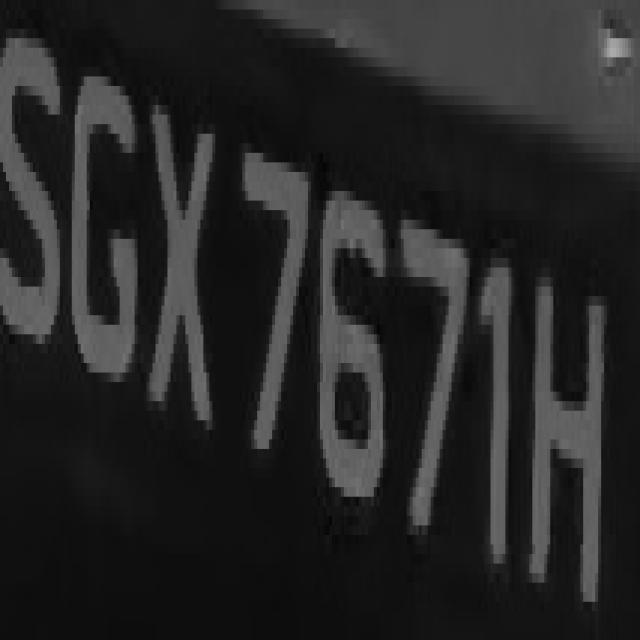1: (478, 191, 512, 640)
6: (311, 153, 386, 563)
7: (392, 172, 472, 564), (227, 105, 308, 478)
G: (66, 48, 134, 420)
H: (514, 248, 610, 640)
S: (3, 0, 63, 392)
X: (129, 67, 221, 477)
